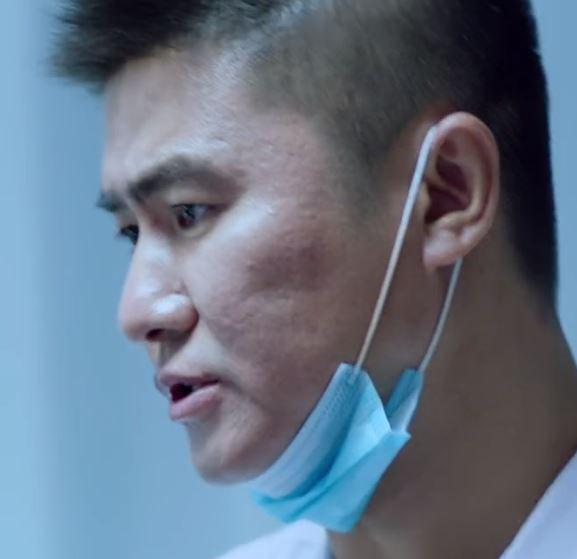WRONG: (102, 112, 377, 496)
